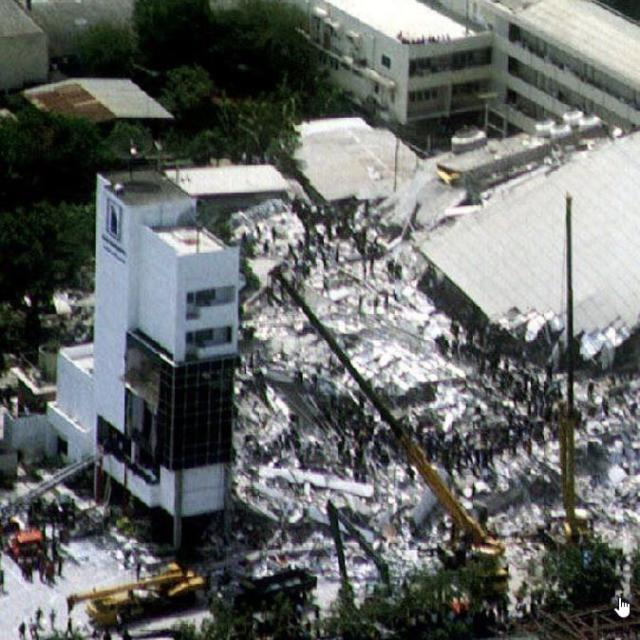collapsed_building: (228, 174, 494, 531)
